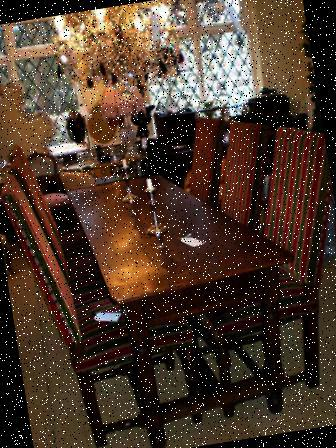Mesa: (61, 147, 321, 447)
Silla: (0, 149, 208, 447), (176, 119, 335, 433), (5, 124, 166, 357), (155, 114, 298, 324)
